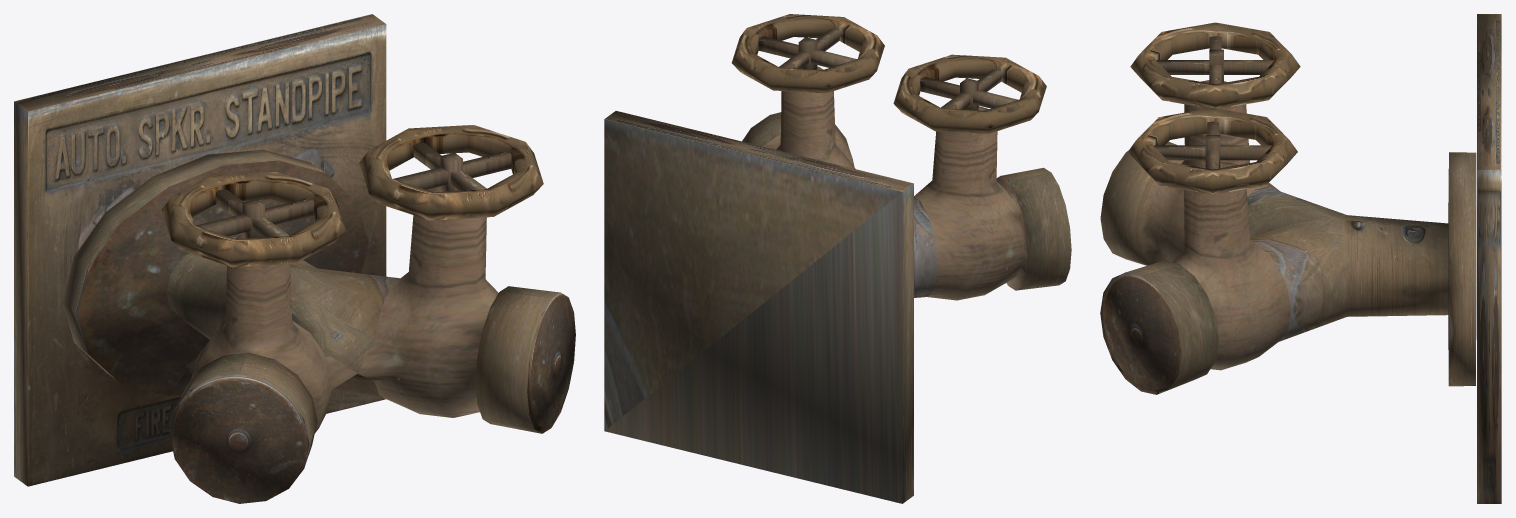
The model's file is firemain.fbx.
3 views of the same model, side by side, from view 1: azimuth 30°, elevation 25°; view 2: azimuth 150°, elevation 25°; view 3: azimuth 270°, elevation 25° (orthographic). The views are drawn at different scales.
Parts seen in each view (by area): view 1: NoName0, Box0, Regroupa0, Regroup0; view 2: Box0, NoName0, Regroupa0, Regroup0; view 3: NoName0, Regroupa0, Box0, Regroup0.
Part boxes in pixels (left/top/right/bottom): NoName0: left=63, top=149, right=575, bottom=503; Box0: left=14, top=14, right=386, bottom=486; Regroupa0: left=162, top=125, right=543, bottom=267; Regroup0: left=196, top=143, right=511, bottom=238; Box0: left=604, top=111, right=913, bottom=503; NoName0: left=742, top=66, right=1071, bottom=300; Regroupa0: left=731, top=14, right=1046, bottom=133; Regroup0: left=758, top=29, right=1017, bottom=110; NoName0: left=1100, top=80, right=1476, bottom=394; Regroupa0: left=1128, top=22, right=1300, bottom=194; Box0: left=1477, top=14, right=1501, bottom=503; Regroup0: left=1153, top=36, right=1274, bottom=169.
Size of the model in its own units: 0.5357 by 0.4726 by 0.5146.
